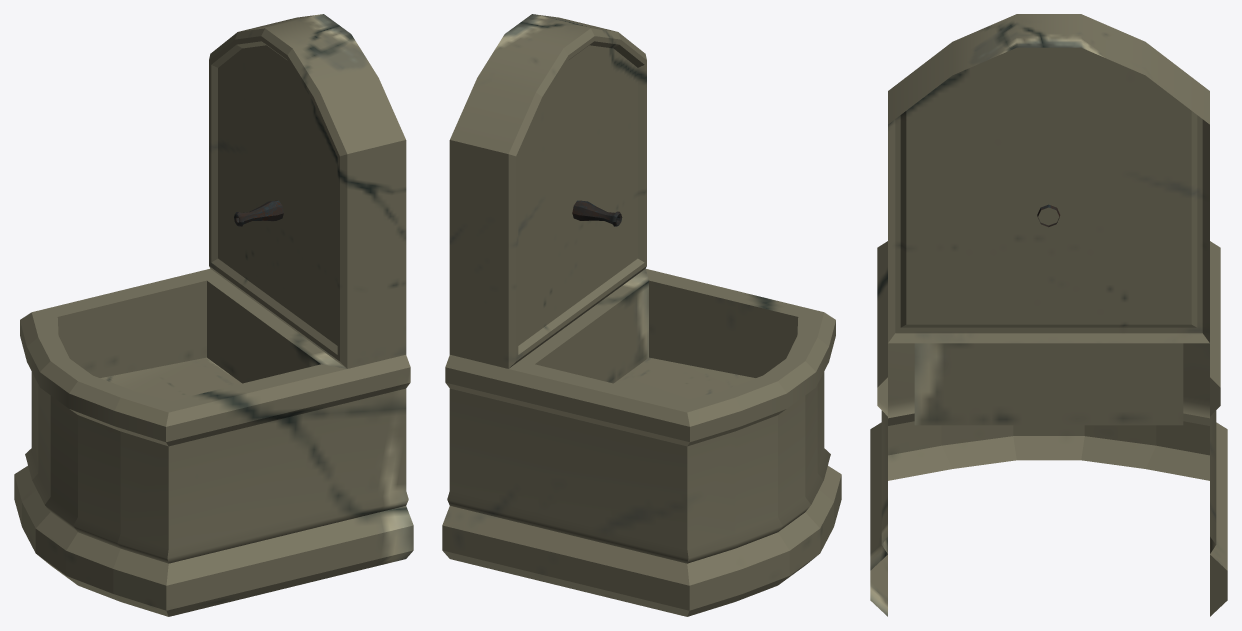
Rendered from fountainWallNew.fbx.
3 renders of one model, left to right at view 1: azimuth 30°, elevation 25°; view 2: azimuth 150°, elevation 25°; view 3: azimuth 270°, elevation 25°, orthographic. The views are drawn at different scales.
Visible parts, largest first — view 1: pCube19, pCylinder14; view 2: pCube19, pCylinder14; view 3: pCube19.
Boxes of the visible parts, x1=… form: pCube19: x1=14, y1=14, x2=413, y2=616; pCylinder14: x1=234, y1=200, x2=283, y2=226; pCube19: x1=442, y1=14, x2=841, y2=616; pCylinder14: x1=572, y1=200, x2=622, y2=226; pCube19: x1=870, y1=14, x2=1227, y2=616.
Size of the model in its own units: 1.21 by 1.95 by 1.11.
